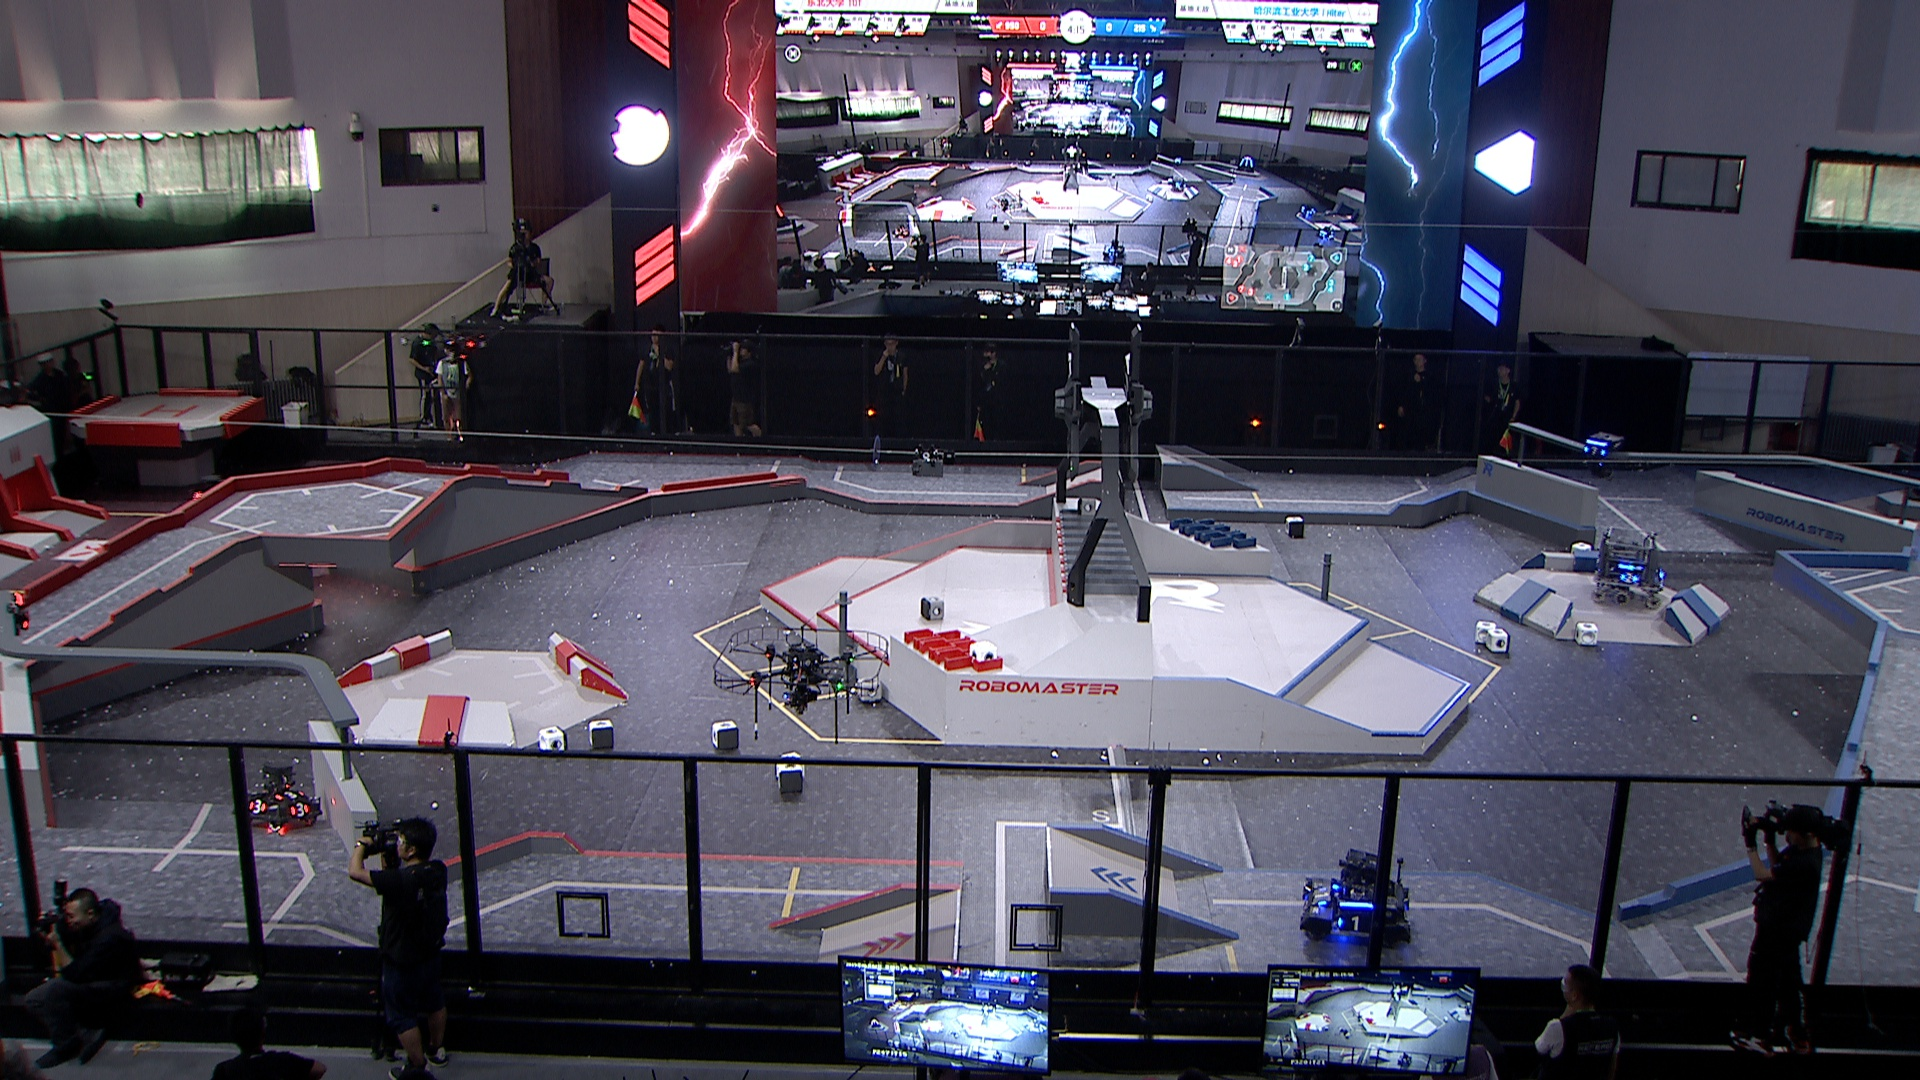armor: (1337, 915, 1367, 934), (1313, 885, 1332, 909), (273, 789, 305, 802), (247, 796, 268, 816), (289, 802, 311, 818), (1584, 443, 1607, 458), (1618, 572, 1640, 585)
car: (1302, 847, 1414, 948), (231, 761, 324, 831), (1592, 524, 1665, 609)
ignore: (1102, 240, 1126, 261), (774, 204, 794, 229), (1237, 154, 1257, 174), (1316, 225, 1335, 243), (1172, 174, 1187, 193), (893, 224, 911, 239), (1299, 204, 1317, 218), (1172, 157, 1185, 169)
watcher: (1581, 433, 1623, 476)
